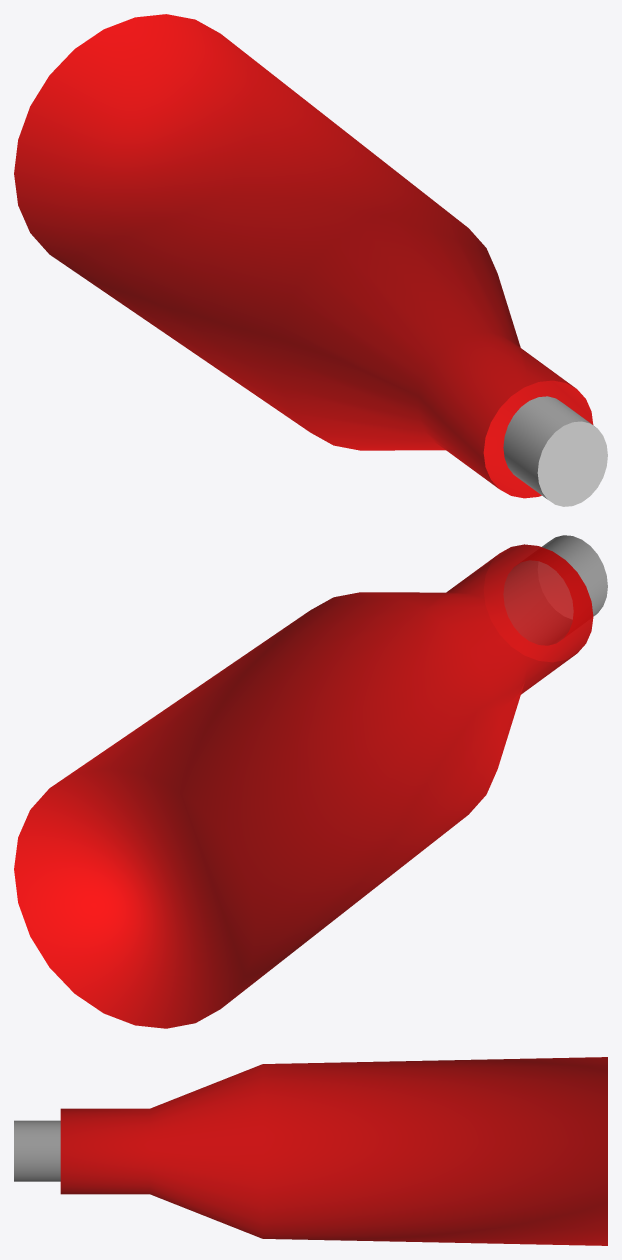
Rendered from model_align.obj.
3 views of the same model, one above another, from view 1: azimuth 30°, elevation 25°; view 2: azimuth 150°, elevation 25°; view 3: azimuth 270°, elevation 25° (orthographic). The views are drawn at different scales.
Visible parts, largest first — view 1: mesh1_mesh1-geometry; view 2: mesh1_mesh1-geometry; view 3: mesh1_mesh1-geometry.
Part boxes in pixels (x1=…): mesh1_mesh1-geometry: x1=14, y1=14, x2=607, y2=506; mesh1_mesh1-geometry: x1=14, y1=535, x2=607, y2=1028; mesh1_mesh1-geometry: x1=14, y1=1057, x2=607, y2=1245.
Size of the model in its own units: 0.0774 by 0.0774 by 0.2423.
